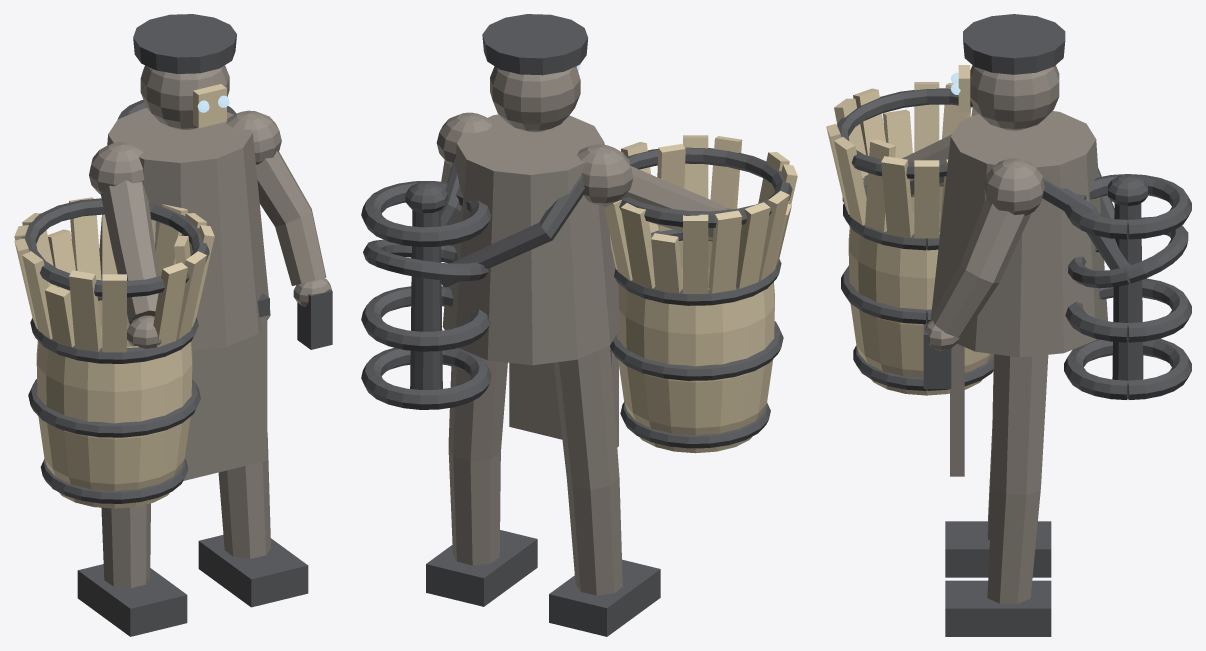
The model's file is hooper.glb.
The picture shows the model from 3 angles, left to right: view 1: azimuth 30°, elevation 25°; view 2: azimuth 150°, elevation 25°; view 3: azimuth 270°, elevation 25°; orthographic projection.
Visible parts, largest first — view 1: hooper_body, hooper_bone, hooper_dark; view 2: hooper_body, hooper_dark, hooper_bone; view 3: hooper_body, hooper_dark, hooper_bone.
Part boxes in pixels (left/top/right/bottom): hooper_body: left=89, top=65, right=331, bottom=588; hooper_bone: left=14, top=84, right=226, bottom=508; hooper_dark: left=22, top=14, right=332, bottom=636; hooper_body: left=436, top=66, right=741, bottom=595; hooper_dark: left=361, top=14, right=792, bottom=636; hooper_bone: left=576, top=66, right=797, bottom=453; hooper_body: left=842, top=65, right=1107, bottom=603; hooper_dark: left=837, top=14, right=1191, bottom=636; hooper_bone: left=826, top=65, right=993, bottom=395.
Size of the model in its own units: 1.38 by 2.36 by 1.4.
